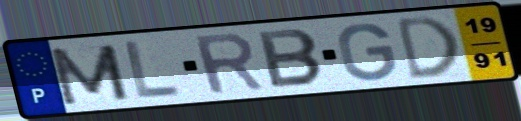B: (254, 27, 328, 90)
D: (394, 14, 462, 83)
G: (335, 21, 400, 83)
L: (121, 39, 182, 101)
M: (43, 42, 133, 107)
R: (189, 30, 268, 97)
